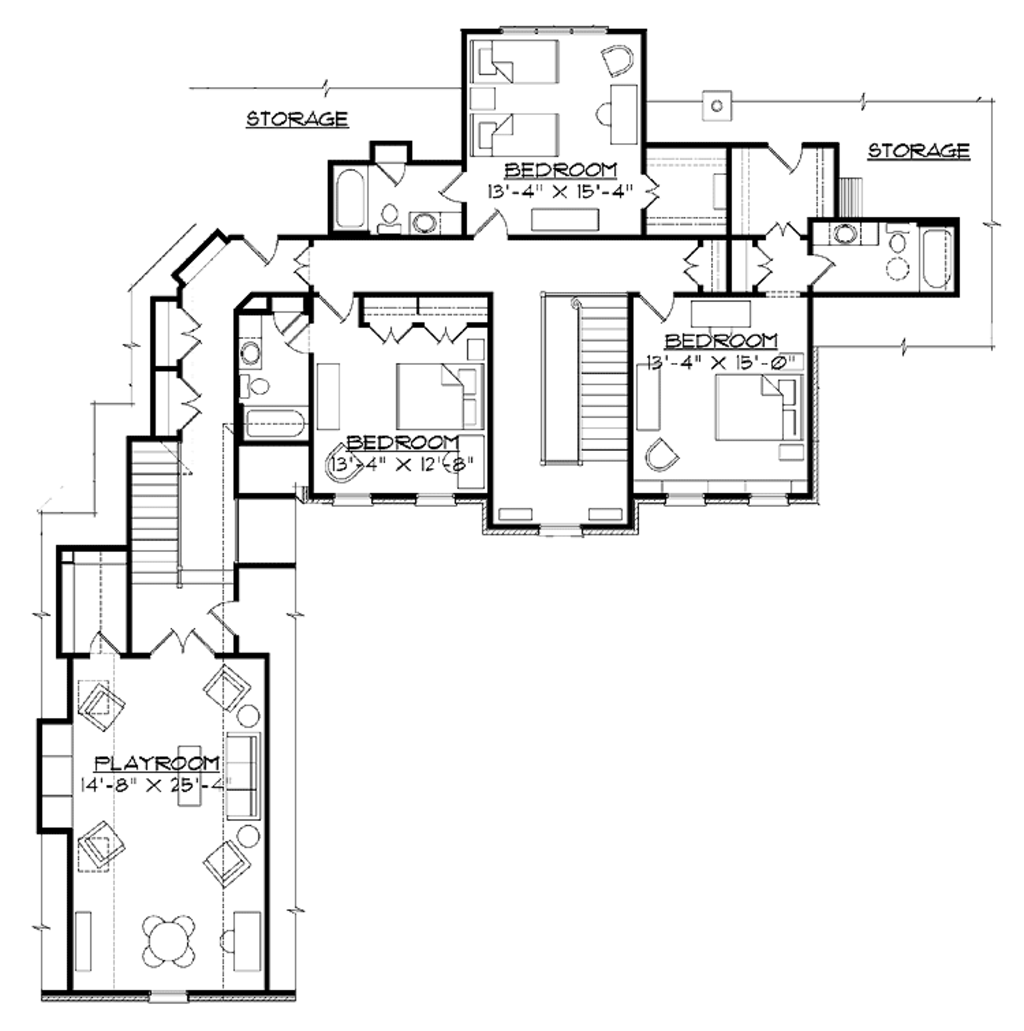bed: (392, 356, 488, 436), (712, 373, 802, 446), (463, 109, 562, 163), (465, 38, 559, 89)
door: (150, 627, 217, 662), (172, 377, 205, 438), (174, 302, 206, 363), (203, 595, 240, 643), (235, 228, 280, 266), (762, 139, 811, 173), (632, 289, 678, 324), (292, 240, 319, 292), (804, 250, 837, 292), (471, 208, 509, 244), (370, 319, 420, 346), (318, 291, 355, 327), (748, 242, 775, 291), (420, 321, 470, 346), (370, 156, 412, 185), (280, 319, 313, 353), (268, 307, 305, 337), (436, 172, 469, 205), (681, 241, 704, 287), (86, 633, 121, 659)
large_sink: (375, 200, 406, 236)
large_sofa: (221, 727, 265, 827)
round_table: (139, 905, 201, 976)
small_sink: (409, 210, 467, 237)
small_sofa: (72, 682, 123, 733), (78, 820, 129, 870), (203, 662, 252, 713), (202, 838, 249, 887)
stairs: (566, 291, 634, 473), (128, 437, 185, 584)
tub: (235, 402, 309, 444), (330, 164, 371, 236), (918, 223, 961, 291)
window: (529, 521, 589, 540), (653, 491, 709, 511), (408, 490, 458, 510), (328, 493, 375, 510), (737, 490, 786, 506), (145, 989, 189, 1006)
